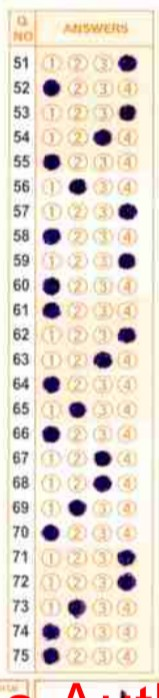filled circles: (42, 425, 60, 443), (118, 573, 136, 591), (42, 302, 61, 319), (93, 351, 112, 368), (93, 128, 111, 145), (68, 499, 86, 516), (93, 475, 111, 492), (68, 599, 85, 617), (118, 54, 136, 71), (118, 203, 137, 219), (43, 79, 60, 96), (42, 524, 59, 541), (117, 549, 135, 565), (42, 623, 59, 639), (118, 253, 135, 269), (43, 154, 60, 170), (69, 178, 86, 194), (43, 277, 59, 294), (43, 228, 60, 244), (118, 327, 135, 343), (43, 648, 59, 664), (119, 104, 135, 120), (43, 376, 59, 392), (69, 401, 85, 417), (94, 450, 111, 465)
